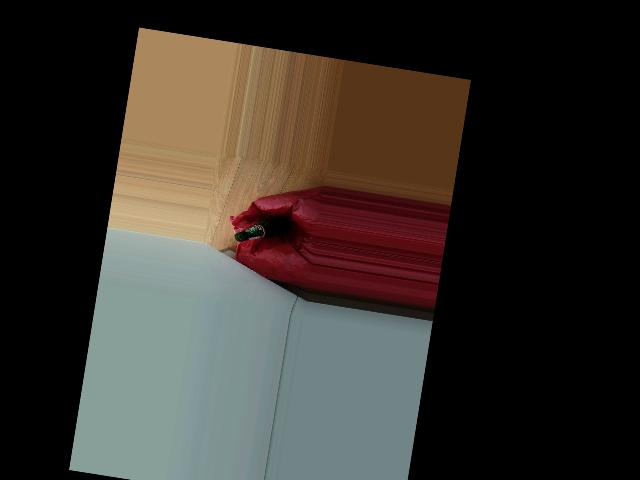beer: (234, 210, 291, 248)
